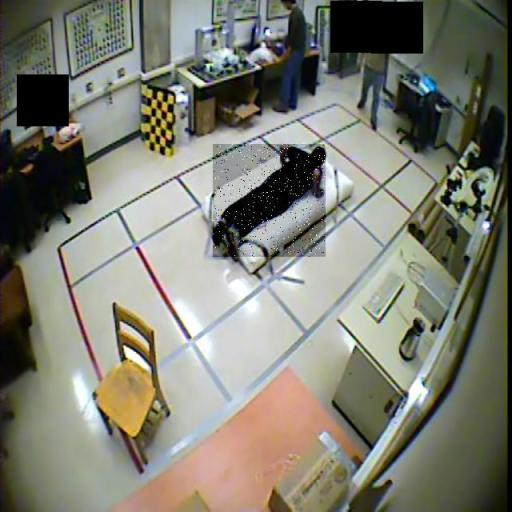Fall: (213, 144, 326, 257)
